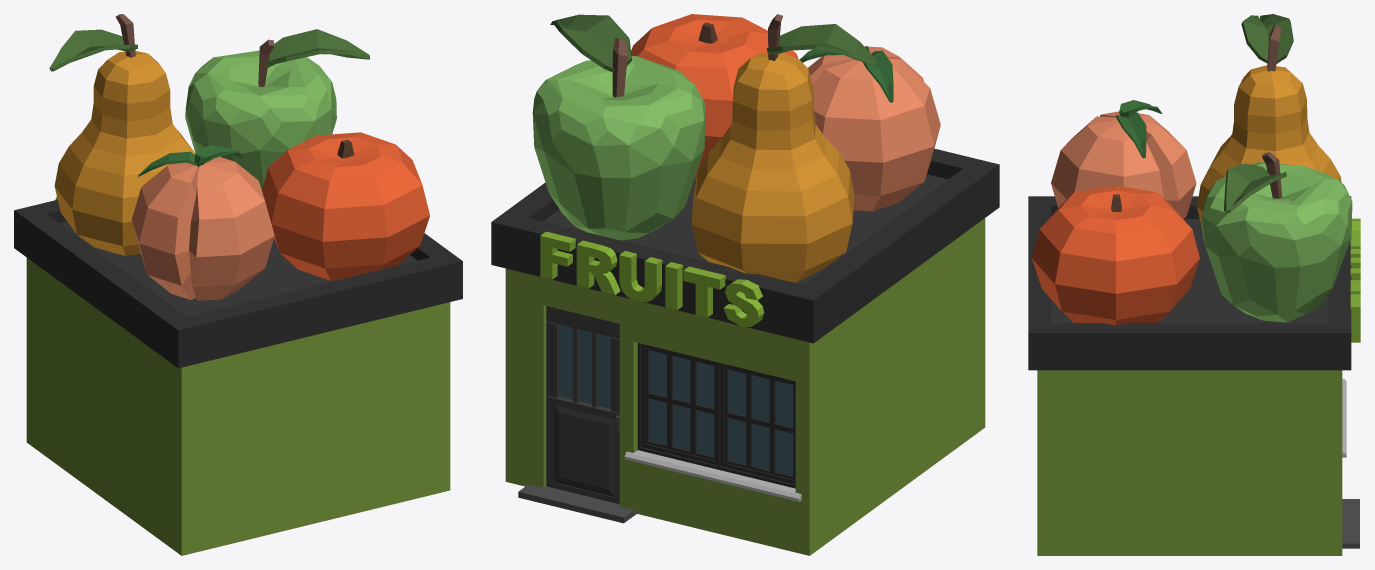
Rendered from bldg-shop-a.glb.
3 renders of one model, left to right at view 1: azimuth 30°, elevation 25°; view 2: azimuth 150°, elevation 25°; view 3: azimuth 270°, elevation 25°, orthographic. The views are drawn at different scales.
Parts seen in each view (by area): view 1: fruitshop; view 2: fruitshop; view 3: fruitshop.
Part boxes in pixels (x1,y1,x2,y2): fruitshop: [14, 14, 462, 555]; fruitshop: [491, 14, 999, 555]; fruitshop: [1028, 14, 1360, 555].
Bounding box in the file's own units: 4.52 × 6.27 × 4.36.
Materials: 1 (1 with a texture image).
